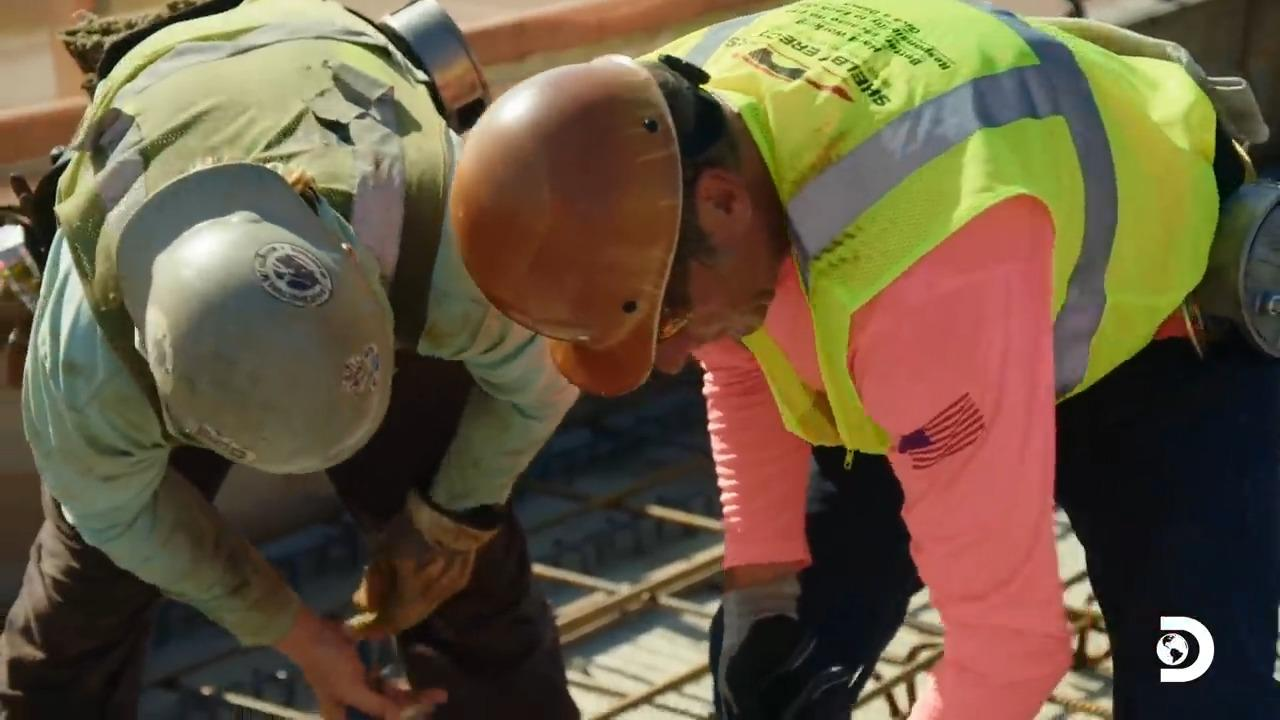Gloves: (713, 570, 813, 692), (358, 512, 475, 610)
Helmet: (95, 173, 413, 472), (448, 53, 688, 399)
Person: (449, 0, 1278, 718), (45, 23, 432, 606)
Safety Vest: (710, 47, 1183, 367), (102, 53, 415, 397)
bare-arms: (275, 620, 425, 720)
